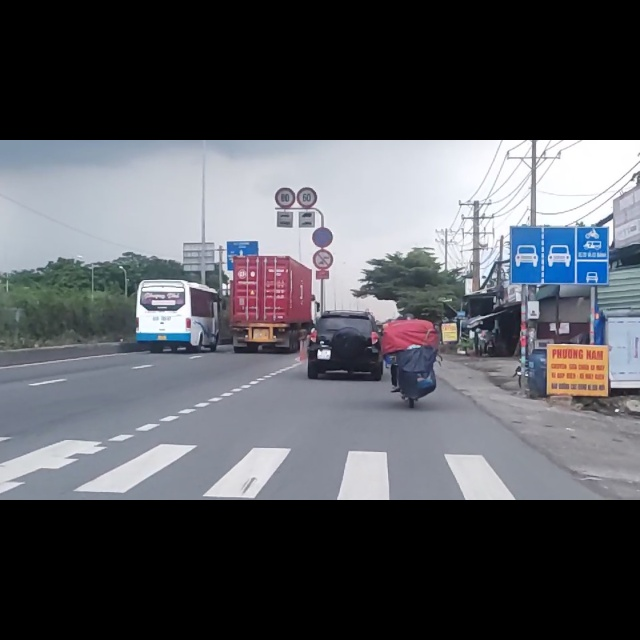bien_chi_dan: (510, 153, 610, 258), (274, 83, 295, 123), (297, 83, 318, 122), (312, 154, 333, 192), (313, 196, 333, 230)
